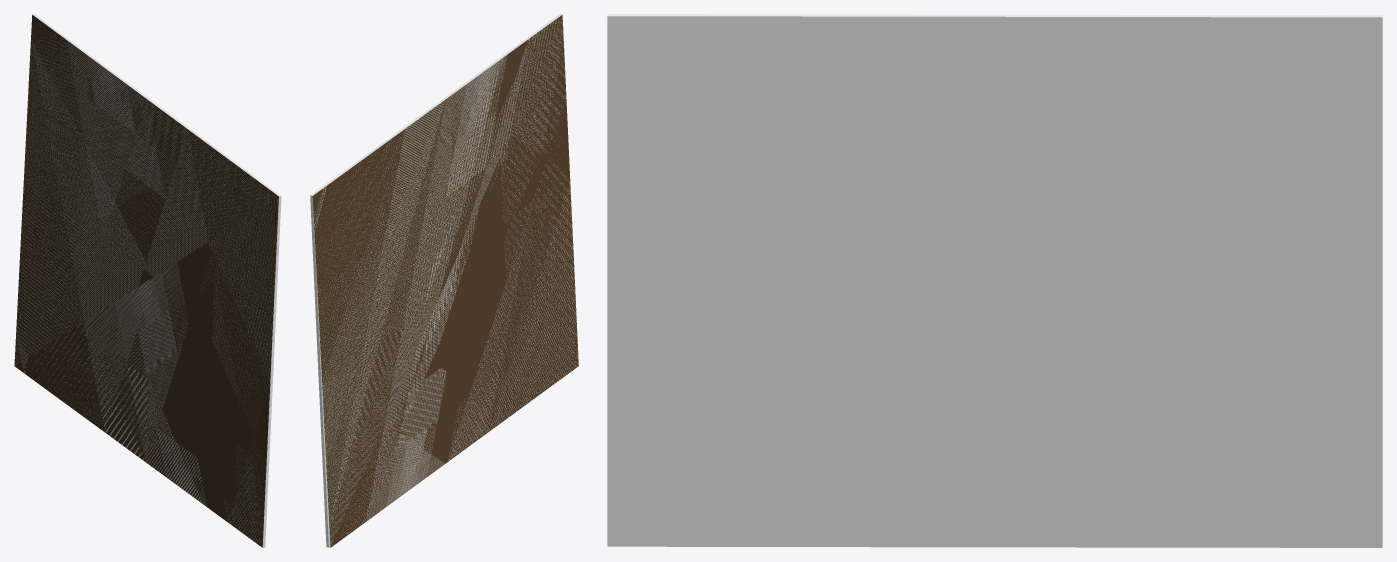
The picture shows the model from 3 angles, left to right: view 1: azimuth 30°, elevation 25°; view 2: azimuth 150°, elevation 25°; view 3: azimuth 270°, elevation 25°; orthographic projection. The views are drawn at different scales.
Visible parts, largest first — view 1: wall mirror log cabin theme; view 2: wall mirror log cabin theme; view 3: wall mirror log cabin theme.
Boxes of the visible parts, bbox=[...] form: wall mirror log cabin theme: bbox=[14, 14, 281, 547]; wall mirror log cabin theme: bbox=[310, 14, 578, 547]; wall mirror log cabin theme: bbox=[607, 14, 1382, 547].
Size of the model in its own units: 1.7 by 27.8 by 35.96.
